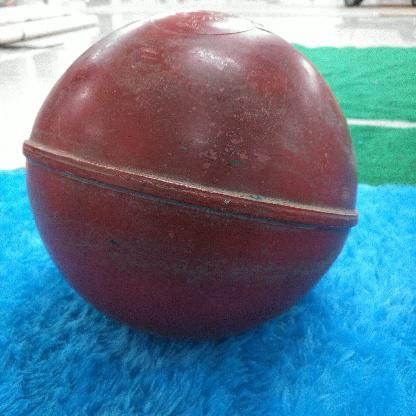red_buoy: (23, 10, 362, 342)
